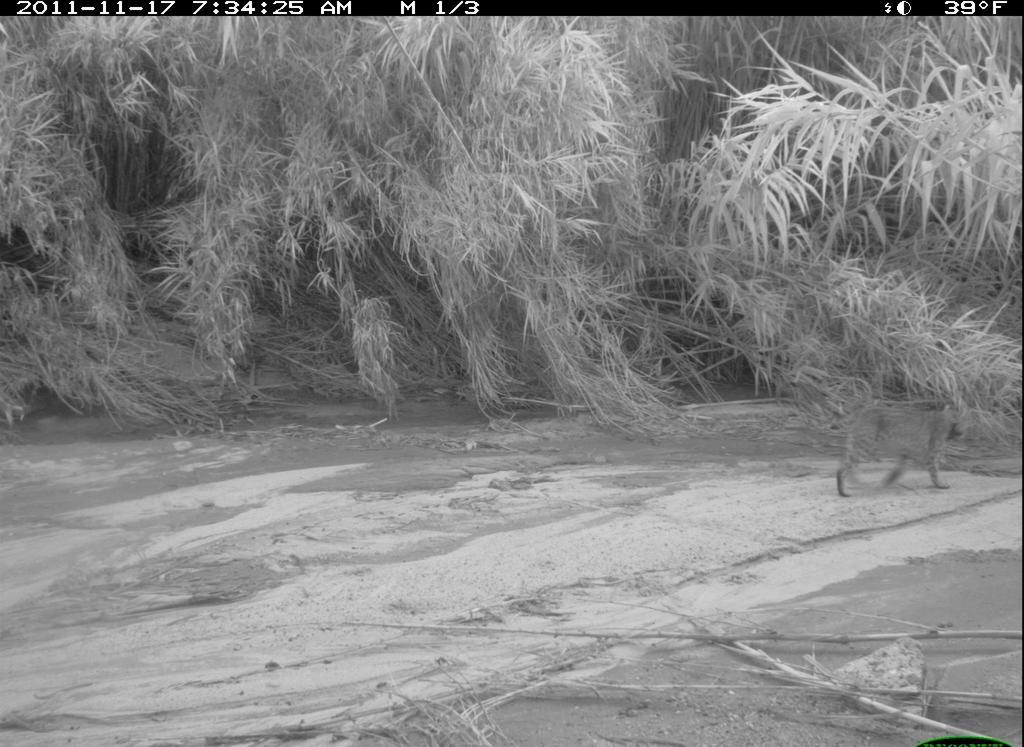bobcat: (807, 392, 977, 505)
